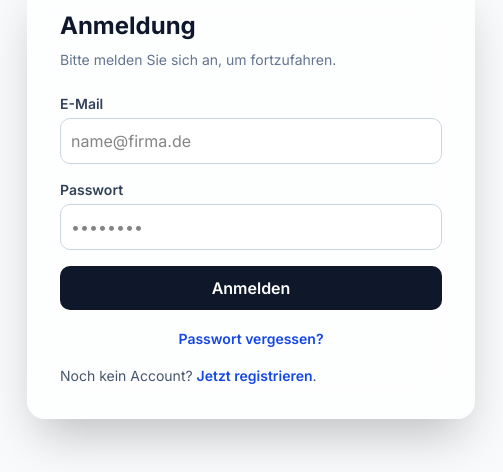
Test: Login-Submit – Erfolg › zeigt während des Ladens "Verarbeite..."
Type "a@b.de" into the field with placeholder "name@firma.de". click: (251, 141)
box: [60,118,442,164]
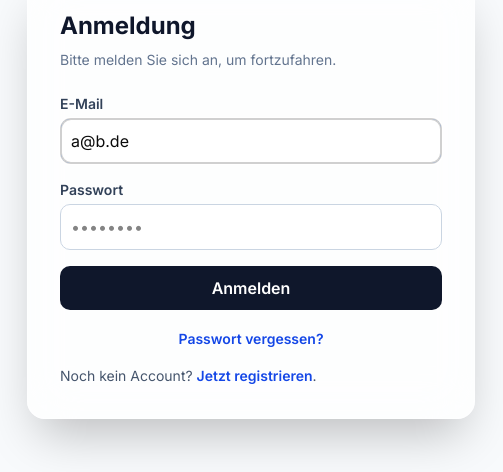
Type "passwort" into the password field with placeholder "••••••••". click: (251, 227)
box: [60,204,442,250]
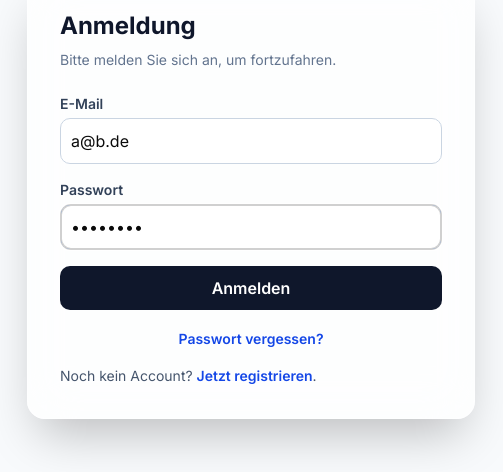
Submit the form "E-Mail Passwort Anmelden Passwort vergessen?", box [60,94,442,350]
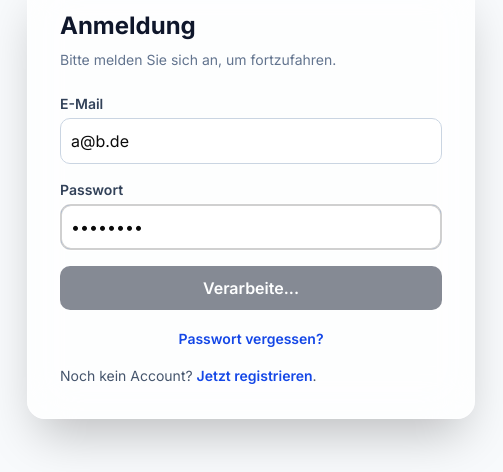
Check: the button "Verarbeite..." is disabled, box [60,266,442,310]
